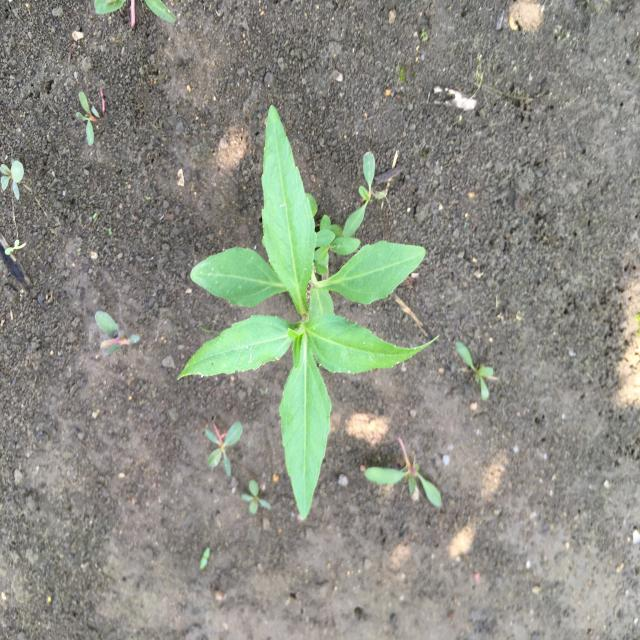Eclipta: (176, 103, 440, 522)
